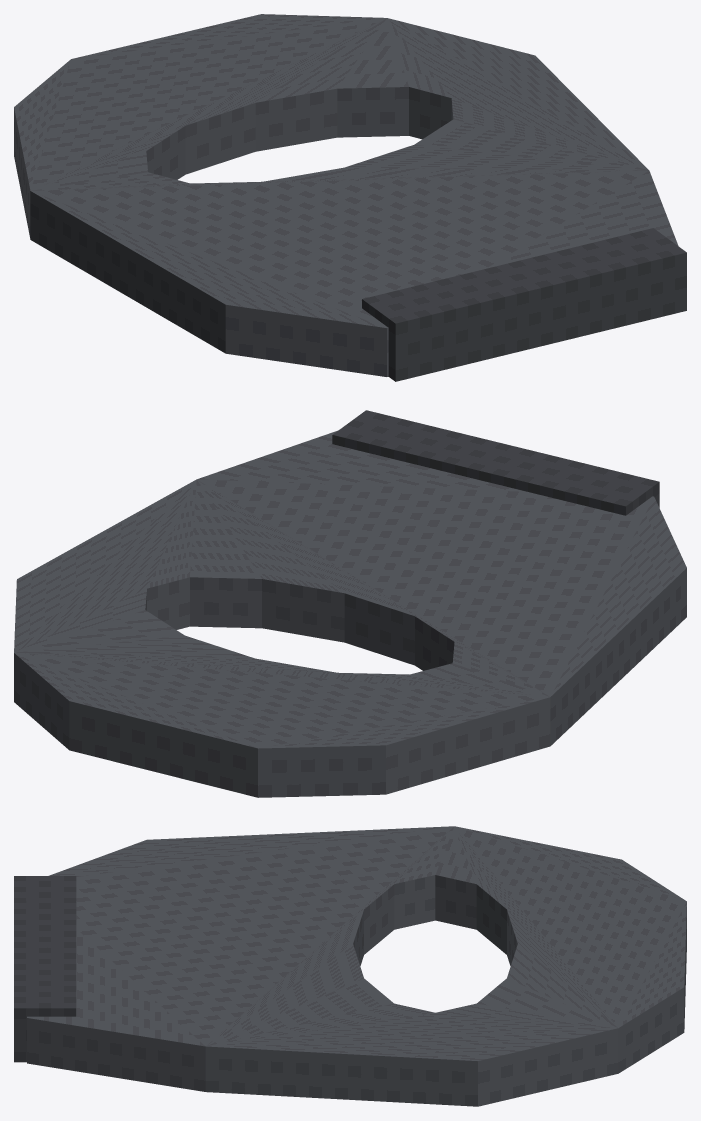
File: balclava.glb
3 renders of one model, top to bottom at view 1: azimuth 30°, elevation 25°; view 2: azimuth 150°, elevation 25°; view 3: azimuth 270°, elevation 25°, orthographic. The views are drawn at different scales.
Visible parts, largest first — view 1: block_knitted face covering, block_neck hem; view 2: block_knitted face covering, block_neck hem; view 3: block_knitted face covering, block_neck hem.
Boxes of the visible parts, x1,y1,x2,y2 form: block_knitted face covering: (14, 14, 678, 376); block_neck hem: (362, 228, 686, 381); block_knitted face covering: (14, 430, 686, 797); block_neck hem: (332, 410, 659, 515); block_knitted face covering: (27, 826, 686, 1106); block_neck hem: (14, 876, 76, 1062).
Bounding box in the file's own units: 0.1285 × 0.0138 × 0.1556.
Materials: 1 (1 with a texture image).
